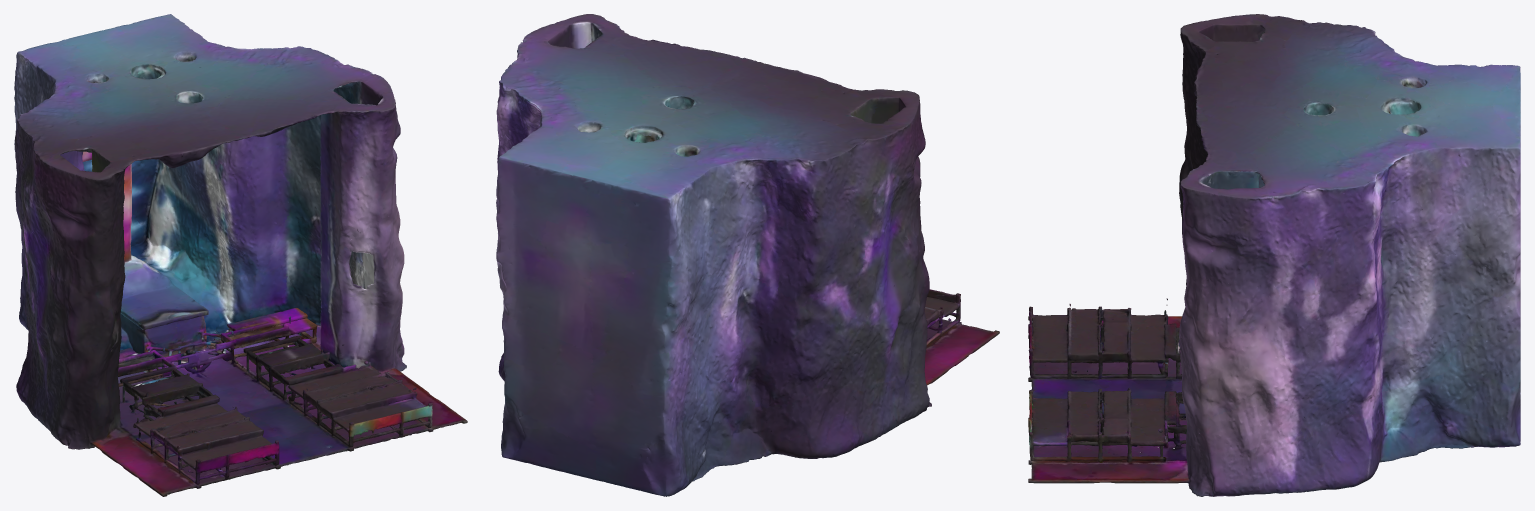
The model's file is religion.glb.
3 renders of one model, left to right at view 1: azimuth 30°, elevation 25°; view 2: azimuth 150°, elevation 25°; view 3: azimuth 270°, elevation 25°, orthographic. The views are drawn at different scales.
Bounding box in the file's own units: 1.72 × 1.29 × 1.9.
1 material, 1 textured.
